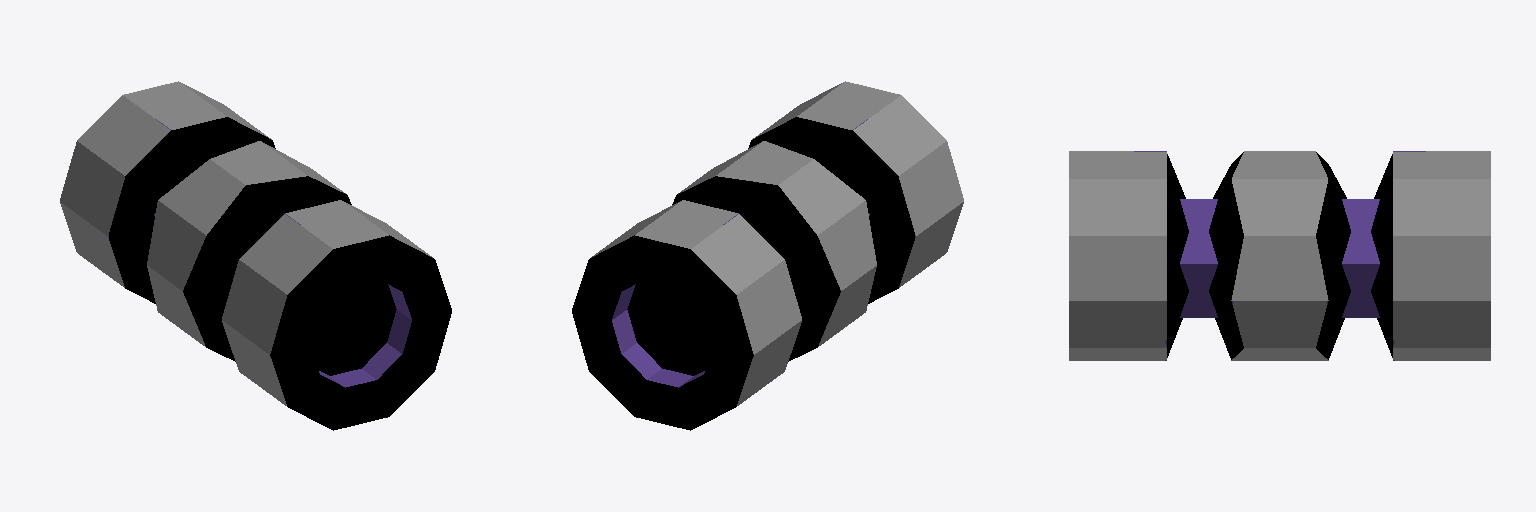
3 renders of one model, left to right at view 1: azimuth 30°, elevation 25°; view 2: azimuth 150°, elevation 25°; view 3: azimuth 270°, elevation 25°, orthographic.
Parts seen in each view (by area): view 1: Cylinder; view 2: Cylinder; view 3: Cylinder.
Part boxes in pixels (x1,y1,x2,y2): Cylinder: (60, 81, 451, 430); Cylinder: (572, 81, 963, 430); Cylinder: (1069, 151, 1490, 360).
Size of the model in its own units: 1 by 0.9511 by 2.
1 materials, 1 textured.